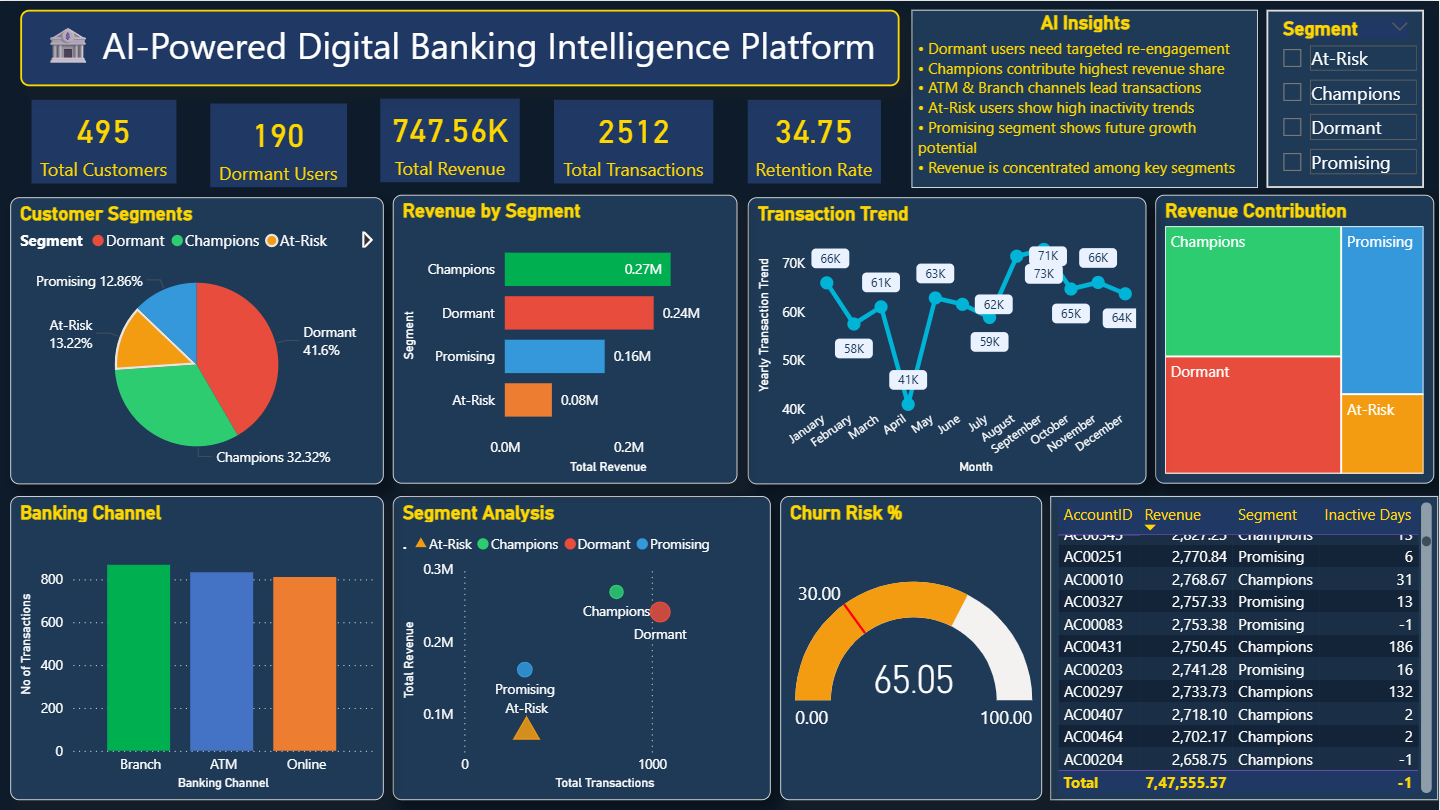

What the dashboard file says about the page in this screenshot:
{"tool":"powerbi","page":{"name":"Page 1","canvas":[1280,720],"ordinal":0},"visuals":[{"type":"pieChart","title":"Customer Segments","fields":{"Category":["customer_final.Segment"],"Y":["Sum(customer_final.total_transactions)"]},"box":[10.4,174.1,331.6,254.9],"z":0},{"type":"treemap","title":"Revenue Contribution","fields":{"Group":["customer_final.Segment"],"Values":["Sum(customer_final.total_spend)"]},"box":[1027.9,172.1,247.7,257],"z":2000},{"type":"lineChart","title":"Transaction Trend","fields":{"Category":["transactions_clean.TransactionDate.Variation.Date Hierarchy.Month"],"Y":["Sum(transactions_clean.TransactionAmount)"]},"box":[665.3,174.1,354.4,254.9],"z":3000},{"type":"scatterChart","title":"Segment Analysis","fields":{"X":["customer_final.Total Transactions"],"Y":["Sum(customer_final.total_spend)"],"Series":["customer_final.Segment"],"Size":["Sum(customer_final.InactiveDays)"]},"box":[350.3,440.4,335.8,270.5],"z":4000},{"type":"slicer","fields":{"Values":["customer_final.Segment"]},"box":[1126.4,7.3,139.9,158.5],"z":5000},{"type":"clusteredColumnChart","title":"Banking  Channel","fields":{"Category":["transactions_clean.Channel"],"Y":["CountNonNull(transactions_clean.TransactionID)"]},"box":[10.4,440.4,331.6,270.5],"z":6000},{"type":"textbox","title":"AI Insights","box":[811.4,8.3,307.8,158.5],"z":8000},{"type":"clusteredBarChart","title":"Revenue by Segment","fields":{"Category":["customer_final.Segment"],"Y":["Sum(customer_final.total_spend)"]},"box":[350.3,172,306.7,257],"z":11000},{"type":"tableEx","fields":{"Values":["customer_final.AccountID","Sum(customer_final.total_spend)","customer_final.Segment","Min(customer_final.InactiveDays)"]},"box":[934.7,440.4,345.1,270.5],"z":13000},{"type":"gauge","fields":{"Y":["customer_final.Churn Risk %"]},"box":[694.3,440.4,233.2,270.5],"z":14000},{"type":"card","fields":{"Values":["customer_final.Customer Retention Rate"]},"box":[665.3,88.1,118.1,74.6],"z":15001},{"type":"card","fields":{"Values":["customer_final.Total Transactions"]},"box":[493.3,88.1,142,74.6],"z":15002},{"type":"card","fields":{"Values":["customer_final.Total Revenue"]},"box":[338.9,87,124.4,74.6],"z":15003},{"type":"card","fields":{"Values":["customer_final.Dormant Users"]},"box":[187.6,91.2,121.2,74.6],"z":15004},{"type":"card","fields":{"Values":["customer_final.Total Customers"]},"box":[29,88.1,128.5,74.6],"z":15005},{"type":"textbox","box":[18.7,8.3,781.4,68.4],"z":15006}]}

Visuals, with their boxes in screenshot pixels (x1, y1, x2, y2), scaled from the page's 1280x720 canvas onto the 1440x810 screenshot:
"Customer Segments" pieChart: l=12, t=196, r=385, b=483
"Revenue Contribution" treemap: l=1156, t=194, r=1435, b=483
"Transaction Trend" lineChart: l=748, t=196, r=1147, b=483
"Segment Analysis" scatterChart: l=394, t=495, r=772, b=800
slicer - customer_final.Segment: l=1267, t=8, r=1425, b=187
"Banking  Channel" clusteredColumnChart: l=12, t=495, r=385, b=800
"AI Insights" textbox: l=913, t=9, r=1259, b=188
"Revenue by Segment" clusteredBarChart: l=394, t=194, r=739, b=483
tableEx - customer_final.AccountID x Sum(customer_final.total_spend): l=1052, t=495, r=1439, b=800
gauge - customer_final.Churn Risk %: l=781, t=495, r=1043, b=800
card - customer_final.Customer Retention Rate: l=748, t=99, r=881, b=183
card - customer_final.Total Transactions: l=555, t=99, r=715, b=183
card - customer_final.Total Revenue: l=381, t=98, r=521, b=182
card - customer_final.Dormant Users: l=211, t=103, r=347, b=187
card - customer_final.Total Customers: l=33, t=99, r=177, b=183
textbox: l=21, t=9, r=900, b=86
